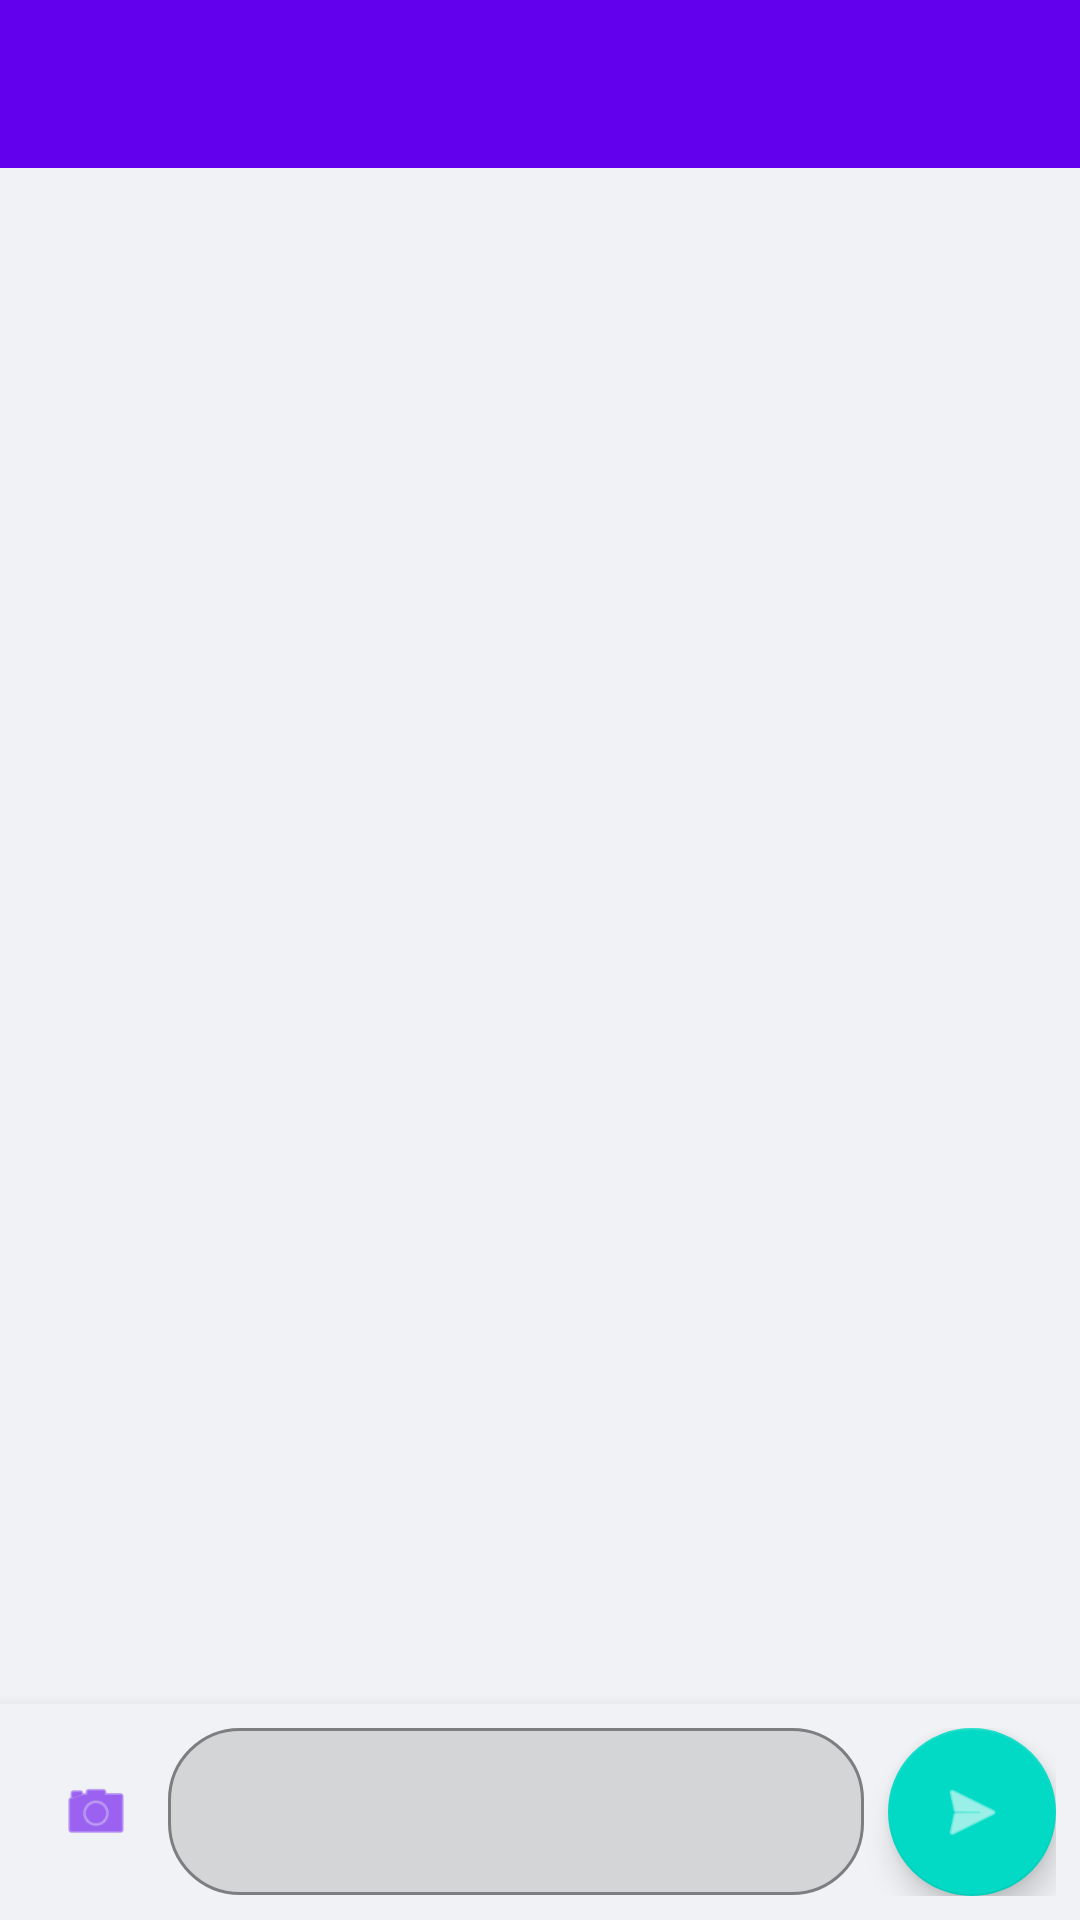

Icons on this 1080w x 1920h Android screen, each with its box as [left=x1, top=y1, right=x2, bottom=y2]:
Add media: [left=68, top=1789, right=124, bottom=1833]
Send message: [left=888, top=1728, right=1056, bottom=1896]
